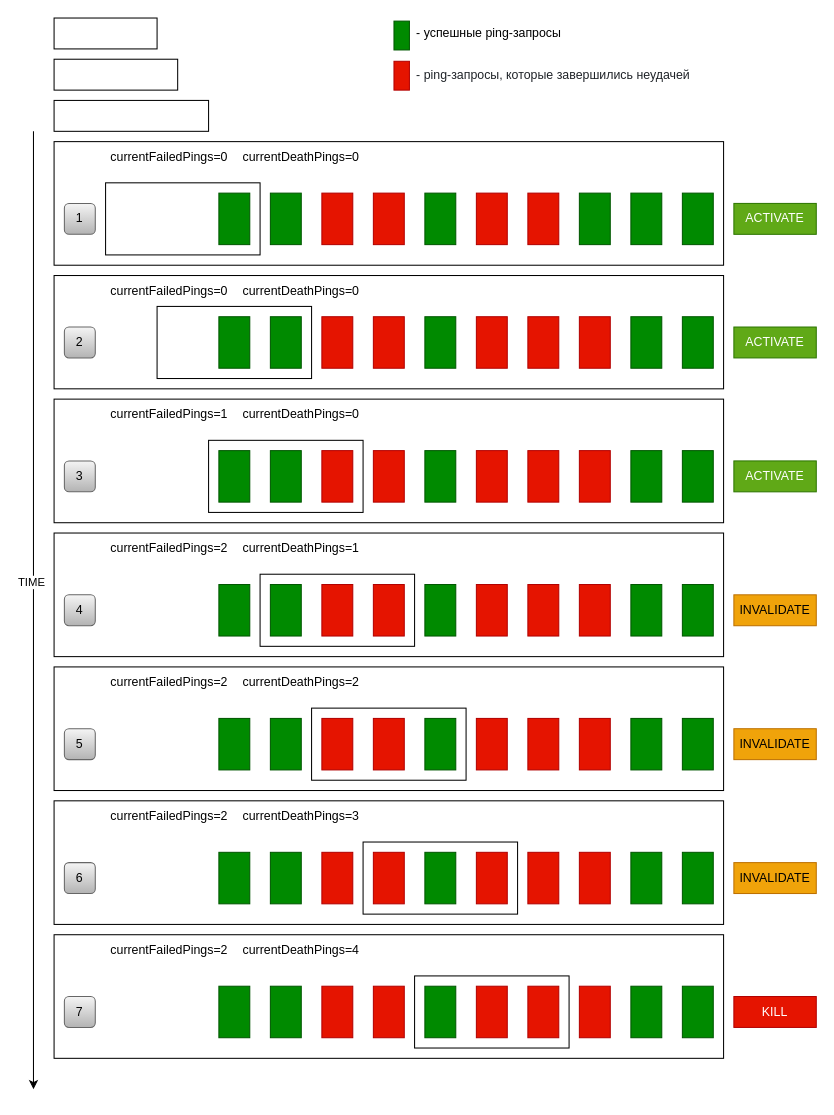
Image size: 834x1115. Some labels were removed from this diagram. Each missing label, with the box of its shape:
deathThreshold=3: (53, 58, 178, 90)
invalidationThreshold=2: (53, 99, 209, 131)
windowSize=3: (53, 17, 157, 49)
